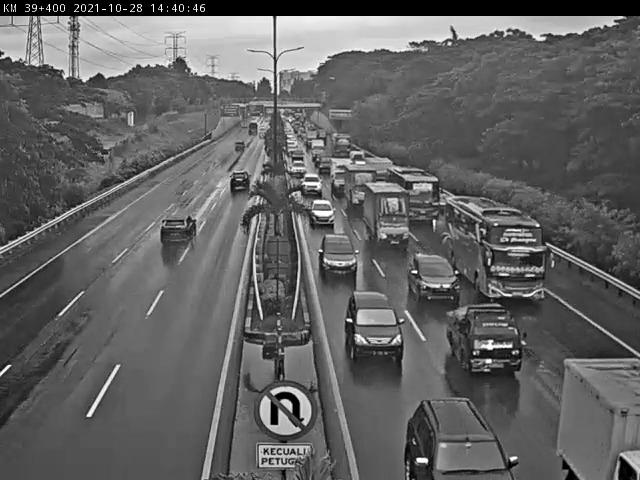big bus: (445, 195, 547, 301), (384, 164, 437, 222)
car: (447, 301, 525, 378), (344, 290, 406, 362), (407, 251, 461, 301), (318, 233, 359, 277), (309, 197, 337, 228), (228, 168, 251, 191)
mid truck: (363, 181, 412, 248), (160, 214, 198, 246)
